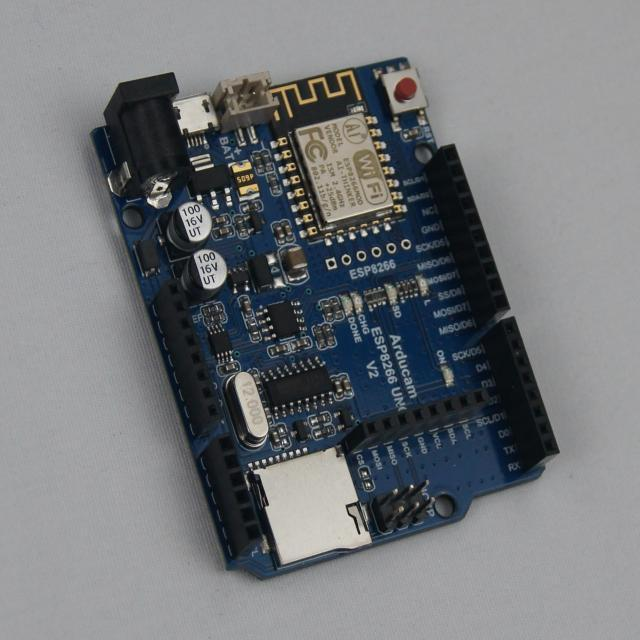Arduino Uno Camera Shield: (93, 58, 559, 578)
